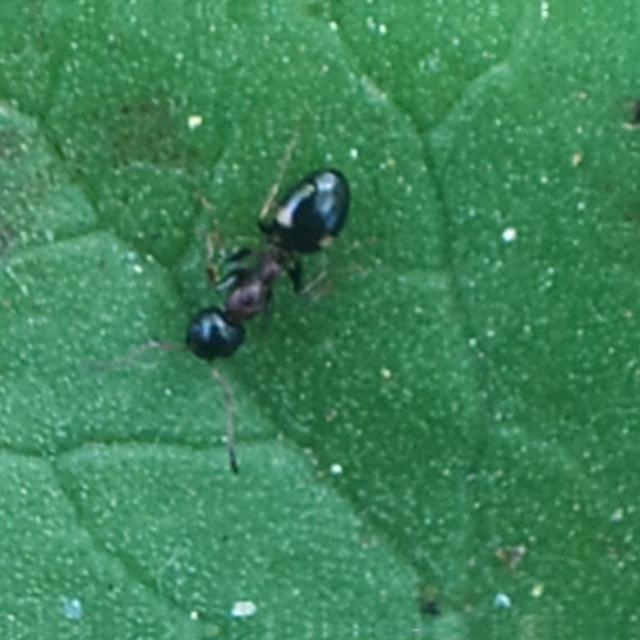Dolichoderus: (136, 136, 378, 402)
